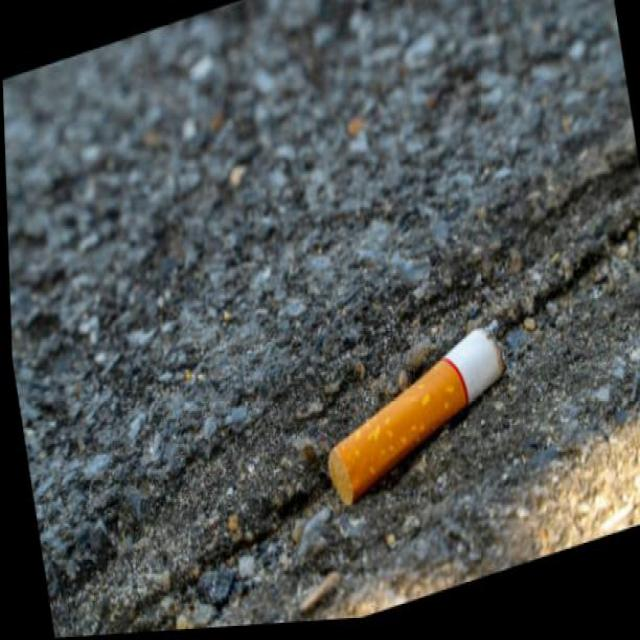cigarette: (307, 314, 521, 522)
